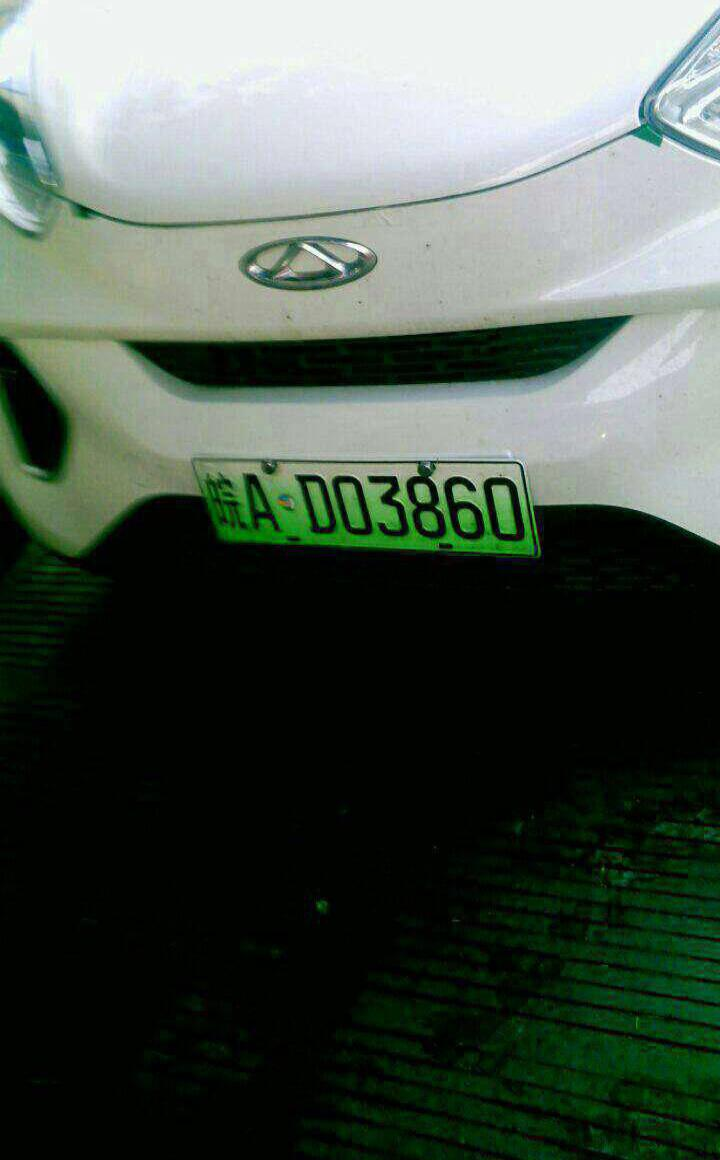car_id: (185, 451, 545, 551)
